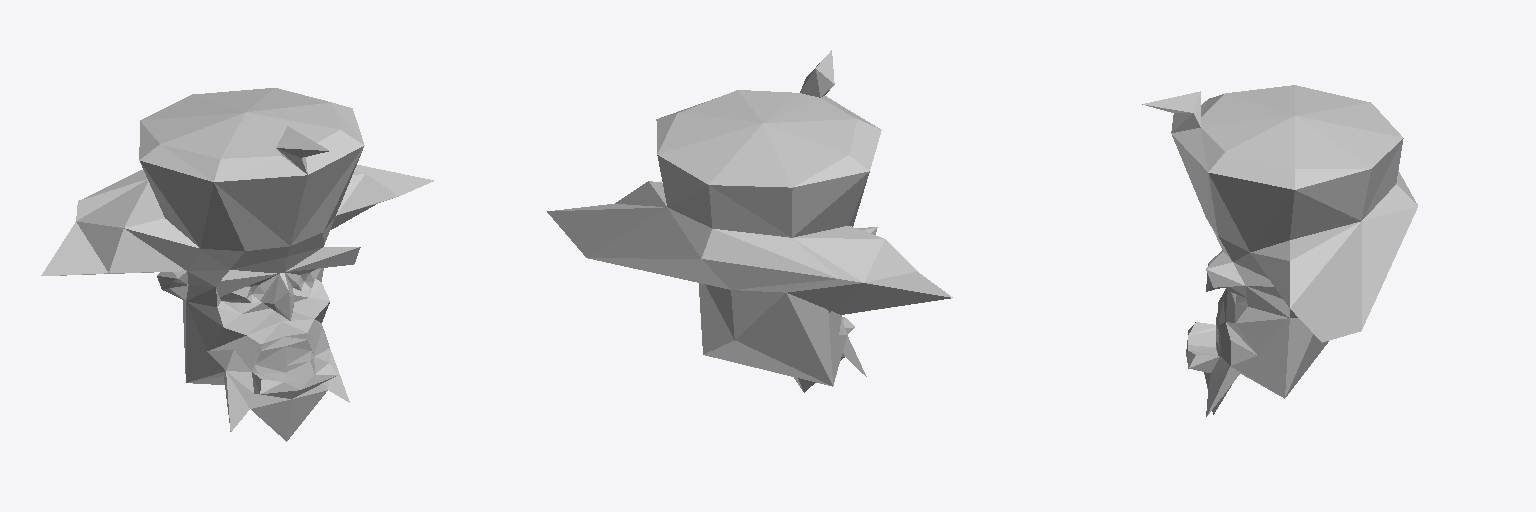
The model's file is cortexhead.obj.
The picture shows the model from 3 angles: view 1: azimuth 30°, elevation 25°; view 2: azimuth 150°, elevation 25°; view 3: azimuth 270°, elevation 25°; orthographic projection.
Parts seen in each view (by area): view 1: 2, default; view 2: 2; view 3: 2, default.
Part boxes in pixels (left/top/right/bottom): 2: left=41, top=88, right=433, bottom=441; default: left=157, top=146, right=363, bottom=373; 2: left=547, top=50, right=952, bottom=392; 2: left=1142, top=85, right=1417, bottom=416; default: left=1172, top=135, right=1297, bottom=354.
Size of the model in its own units: 22 by 16.87 by 13.16.